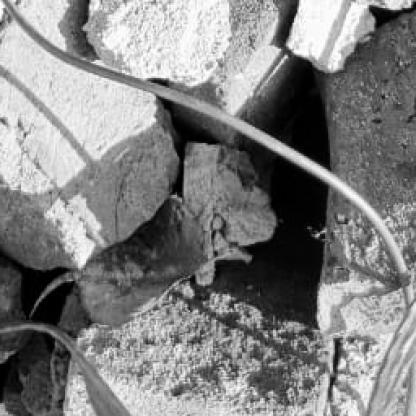cementitious_debris: (2, 0, 413, 414)
